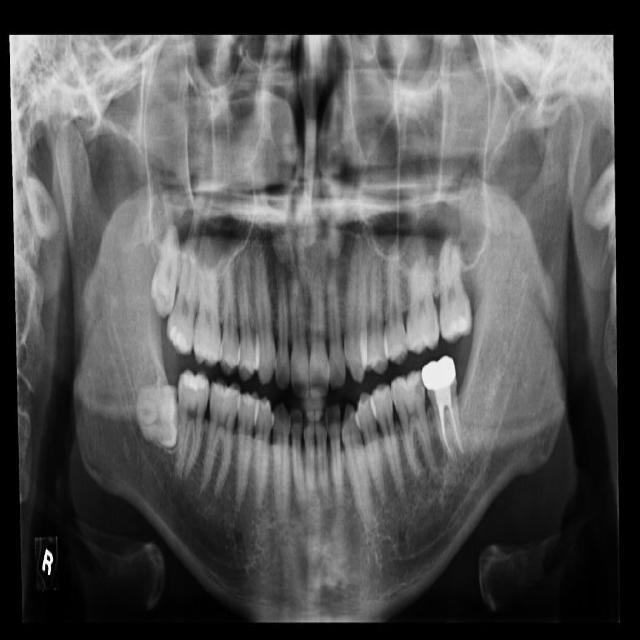3M ESPE Implant: (147, 225, 184, 319)
52: (418, 354, 461, 394), (178, 368, 210, 416), (167, 310, 194, 357), (413, 373, 428, 398)
73: (424, 377, 478, 461), (610, 596, 614, 600)
BioHorizons Implant: (434, 237, 473, 345)
Blue Sky Bio Implant: (419, 355, 467, 463)
Caries: (163, 238, 207, 357)
Implant: (176, 369, 210, 475)
Keystone Dental Implant: (137, 384, 182, 448)
